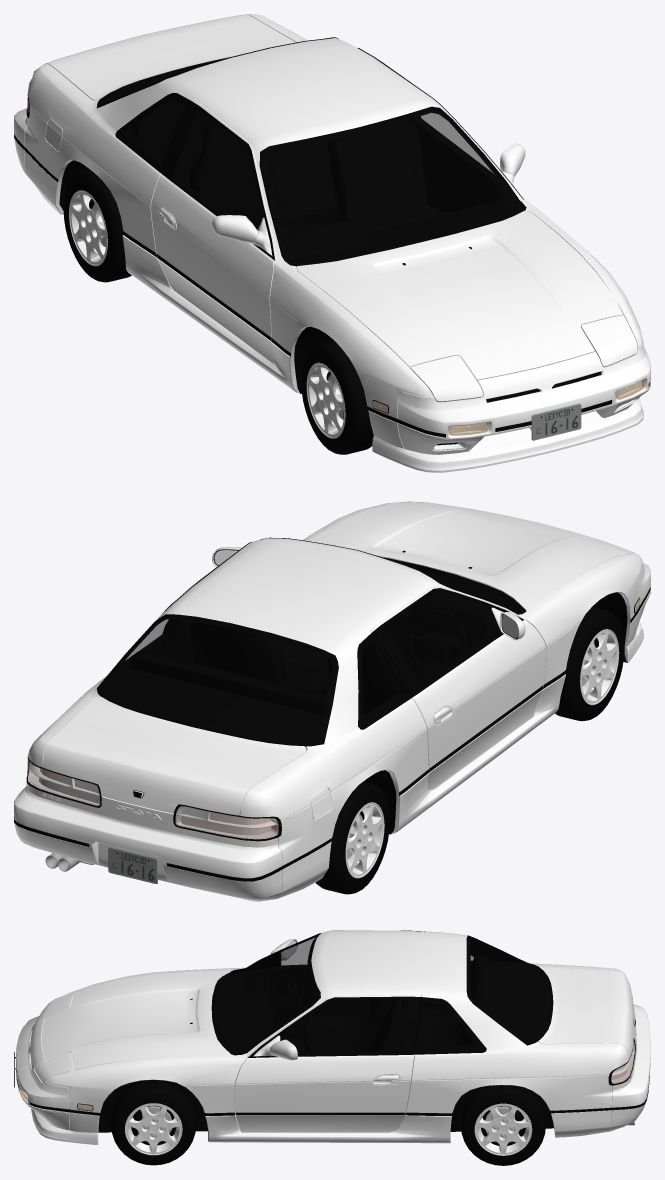
Rendered from nissan_onevia.glb.
3 views of the same model, one above another, from view 1: azimuth 30°, elevation 25°; view 2: azimuth 150°, elevation 25°; view 3: azimuth 270°, elevation 25° (orthographic). The views are drawn at different scales.
Visible parts, largest first — view 1: Object_8, Object_10, Object_16, Object_30_Wheel, Object_26_Wheel, Object_11, Object_20, Object_6, Object_21, Object_13, Object_7, Object_3 (+1 smaller); view 2: Object_8, Object_16, Object_10, Object_30_Wheel, Object_26_Wheel, Object_11, Object_22, Object_2, Object_21, Object_20, Object_6, Object_13 (+1 smaller); view 3: Object_8, Object_10, Object_16, Object_30_Wheel, Object_26_Wheel, Object_11, Object_6, Object_21, Object_20, Object_7, Object_25_Wheel, Object_22 (+1 smaller).
Boxes of the visible parts, bbox=[...] form: Object_8: bbox=[14, 14, 650, 472]; Object_10: bbox=[104, 61, 519, 264]; Object_16: bbox=[103, 60, 519, 264]; Object_30_Wheel: bbox=[63, 169, 373, 454]; Object_26_Wheel: bbox=[69, 190, 345, 438]; Object_11: bbox=[97, 37, 524, 262]; Object_20: bbox=[100, 59, 523, 266]; Object_6: bbox=[59, 160, 601, 445]; Object_21: bbox=[14, 94, 650, 437]; Object_13: bbox=[531, 403, 581, 440]; Object_7: bbox=[162, 104, 421, 179]; Object_3: bbox=[373, 380, 643, 435]; Object_8: bbox=[14, 501, 650, 901]; Object_16: bbox=[103, 571, 519, 740]; Object_10: bbox=[104, 569, 518, 740]; Object_30_Wheel: bbox=[315, 606, 624, 894]; Object_26_Wheel: bbox=[345, 629, 619, 878]; Object_11: bbox=[97, 537, 523, 798]; Object_22: bbox=[28, 761, 278, 839]; Object_2: bbox=[27, 759, 278, 839]; Object_21: bbox=[14, 549, 650, 881]; Object_20: bbox=[100, 584, 522, 743]; Object_6: bbox=[364, 559, 627, 834]; Object_13: bbox=[108, 847, 157, 883]; Object_8: bbox=[16, 930, 650, 1144]; Object_10: bbox=[213, 937, 548, 1054]; Object_16: bbox=[212, 936, 548, 1054]; Object_30_Wheel: bbox=[111, 1081, 545, 1165]; Object_26_Wheel: bbox=[125, 1103, 532, 1155]; Object_11: bbox=[237, 930, 634, 1057]; Object_6: bbox=[31, 972, 553, 1140]; Object_21: bbox=[16, 940, 649, 1115]; Object_20: bbox=[211, 935, 550, 1055]; Object_7: bbox=[399, 998, 420, 1053]; Object_25_Wheel: bbox=[131, 1105, 525, 1145]; Object_22: bbox=[611, 1041, 634, 1083].
Size of the model in its own units: 1.88 by 1.26 by 4.52.
27 materials, 2 textured.
